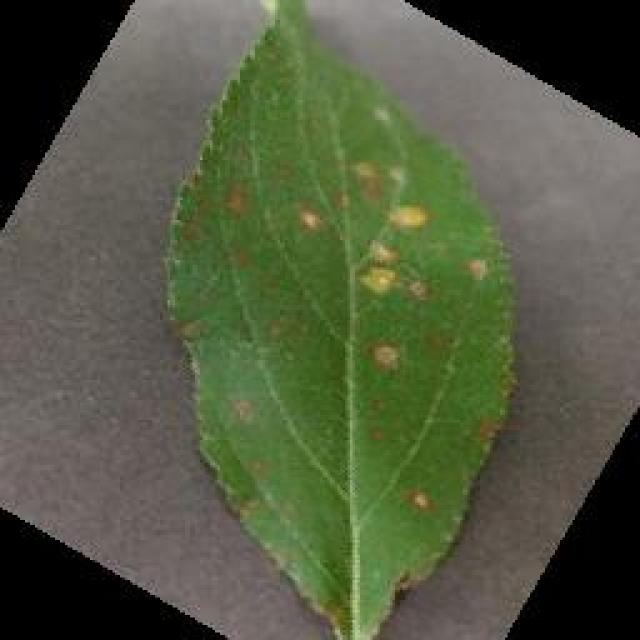apple healthy: (158, 0, 520, 638)
